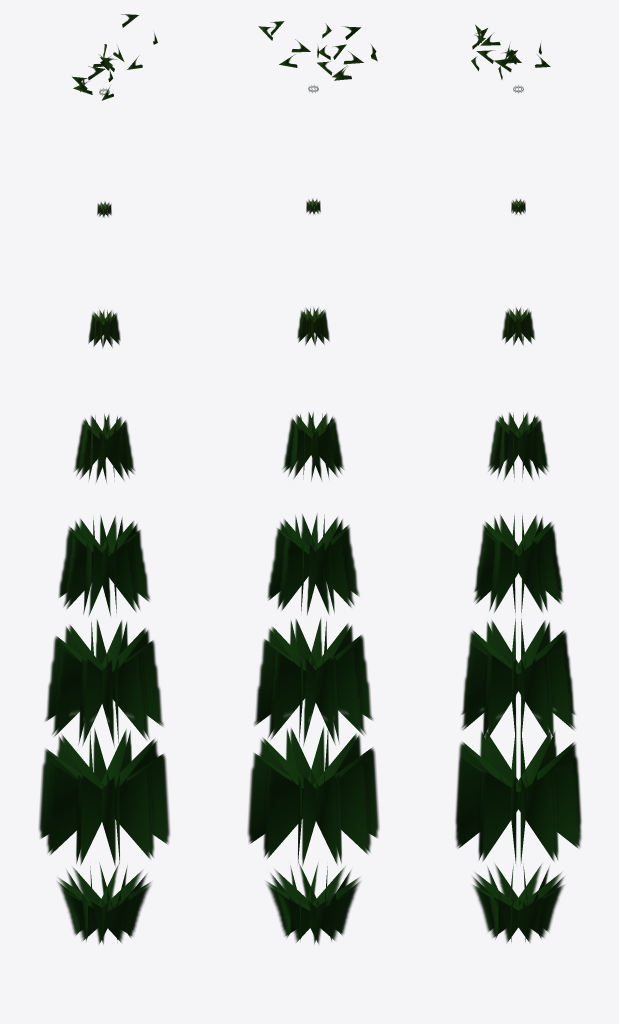
File: Grass_Switchgrass.glb
3 renders of one model, left to right at view 1: azimuth 30°, elevation 25°; view 2: azimuth 150°, elevation 25°; view 3: azimuth 270°, elevation 25°, orthographic.
Parts seen in each view (by area): view 1: Grass_Switchgrass; view 2: Grass_Switchgrass; view 3: Grass_Switchgrass.
Part boxes in pixels (x1=…): Grass_Switchgrass: x1=39, y1=14, x2=169, y2=944; Grass_Switchgrass: x1=247, y1=21, x2=379, y2=944; Grass_Switchgrass: x1=455, y1=24, x2=581, y2=942.
Bounding box in the file's own units: 0.28 × 1.61 × 0.2663.
Materials: 1 (1 with a texture image).
